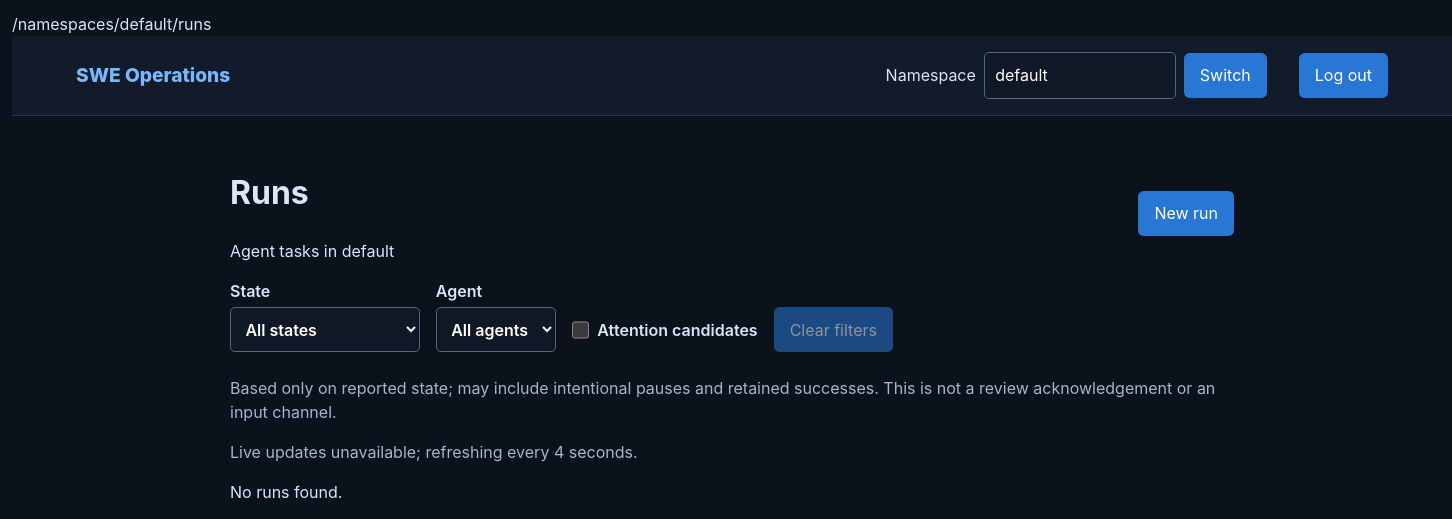
Scenario: App frozen API integration › rejects invalid namespace input  without navigating or fetching
expect the text "No runs found." is shown: met, box x1=230 y1=482 x2=342 y2=502
Clear the field labelled "Namespace" at coordinates (1080, 75), box x1=984 y1=52 x2=1176 y2=99
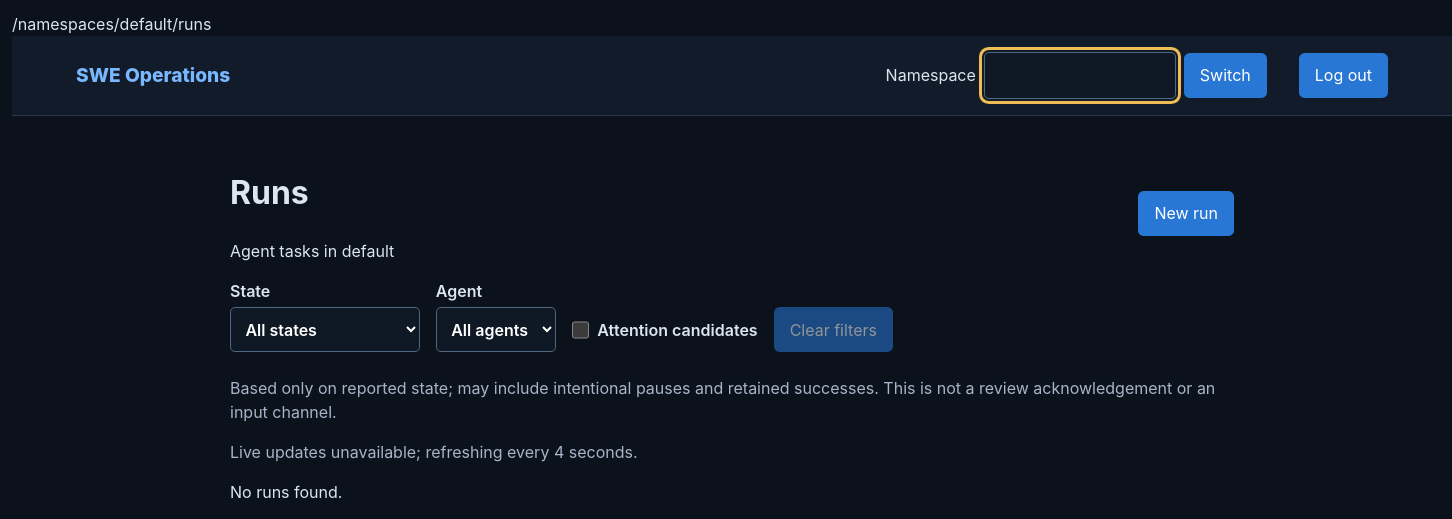
Click the button "Switch" at coordinates (1225, 75), box x1=1184 y1=53 x2=1267 y2=98
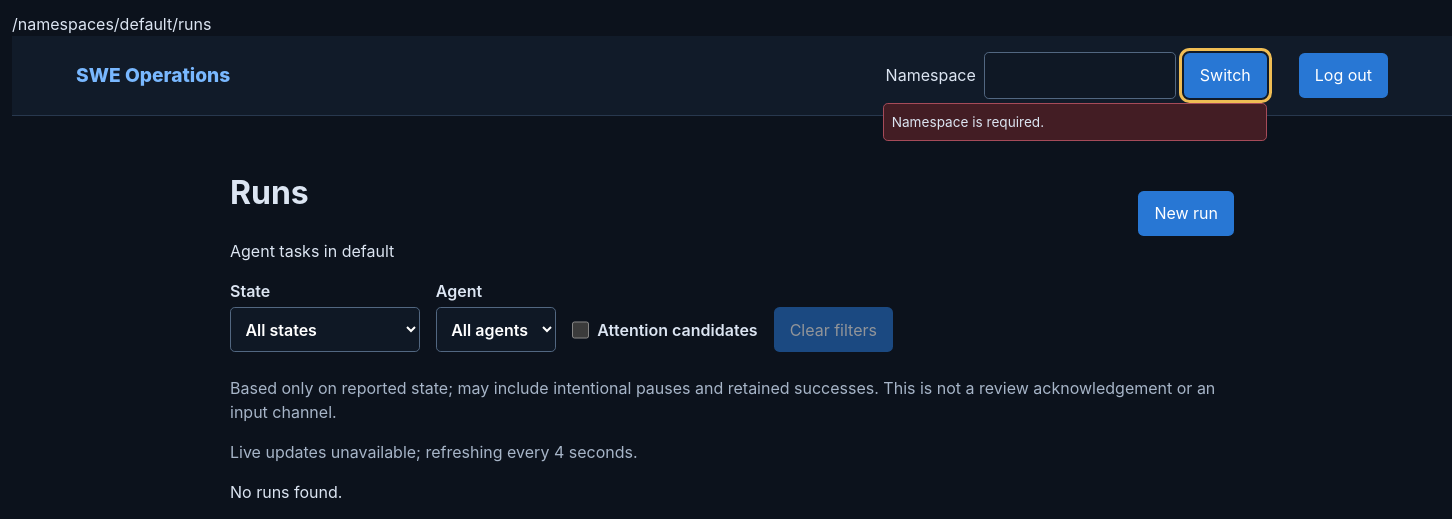
expect the text with test id "location" reads "/namespaces/default/runs": met, box x1=12 y1=14 x2=211 y2=34
expect the message "Namespace is required." is shown: met, box x1=883 y1=103 x2=1267 y2=141
